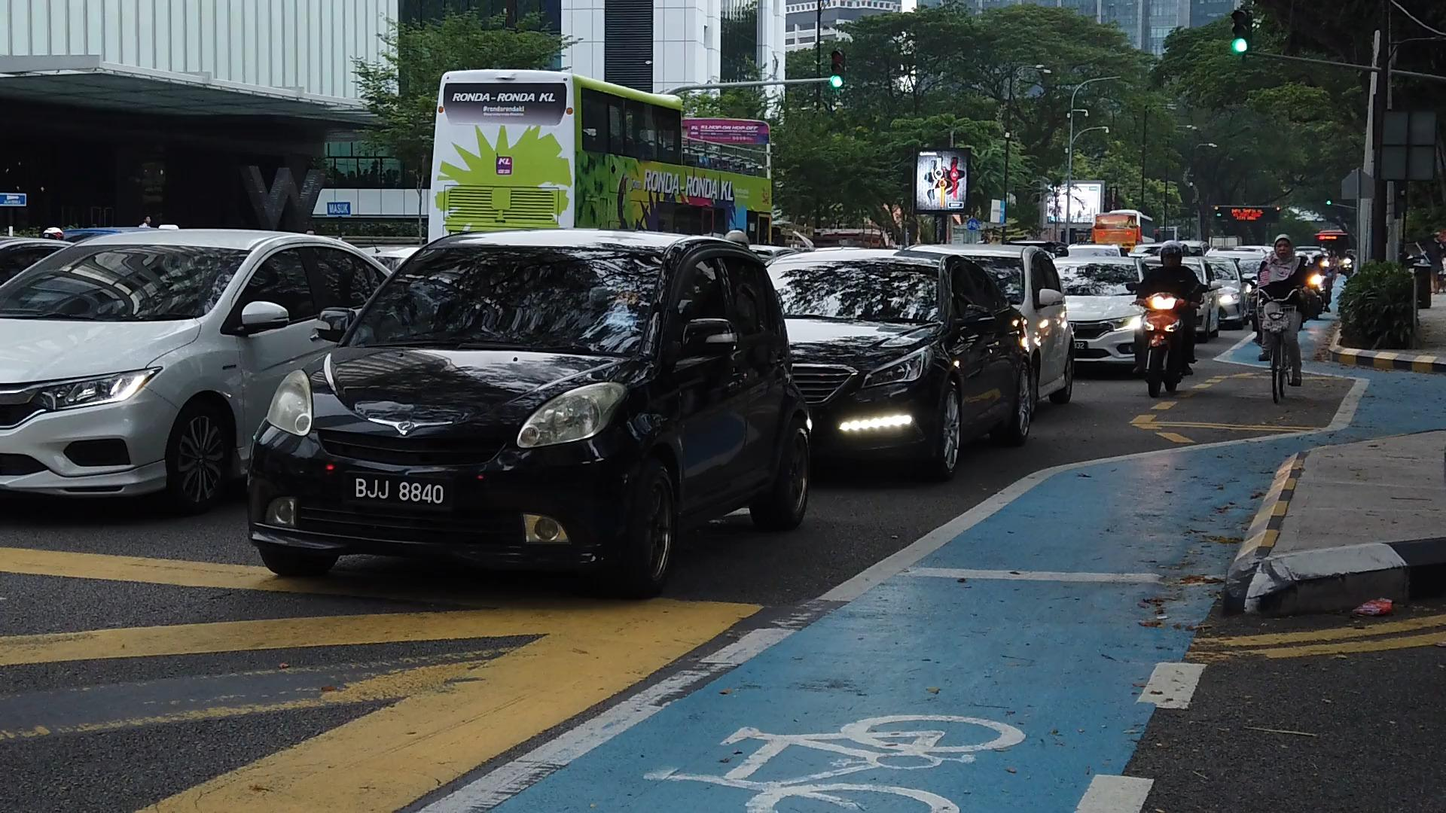bicyclist: (1247, 234, 1309, 403)
driver: (1126, 239, 1208, 398)
helmet: (1160, 240, 1183, 268)
no-helmet: (1274, 234, 1293, 261)
